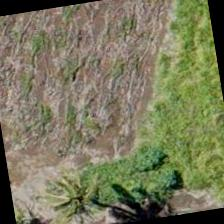Kelapa_Sawit: (22, 147, 124, 223)
